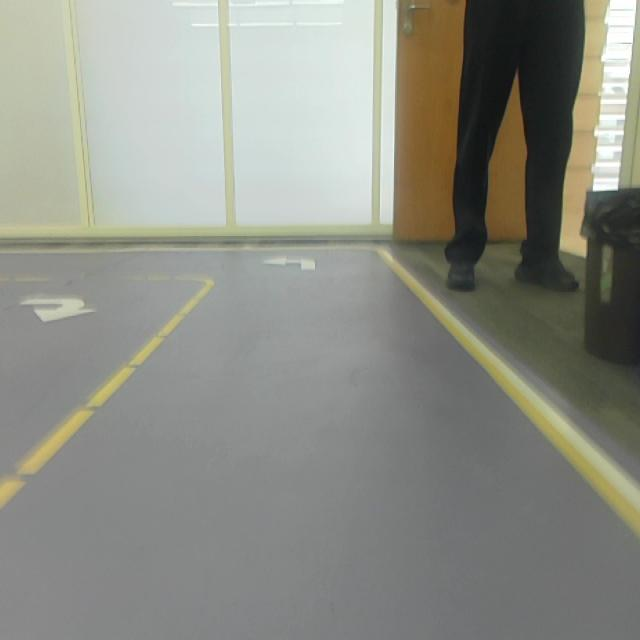left_lane: (0, 284, 214, 514)
right_lane: (381, 250, 640, 534)
